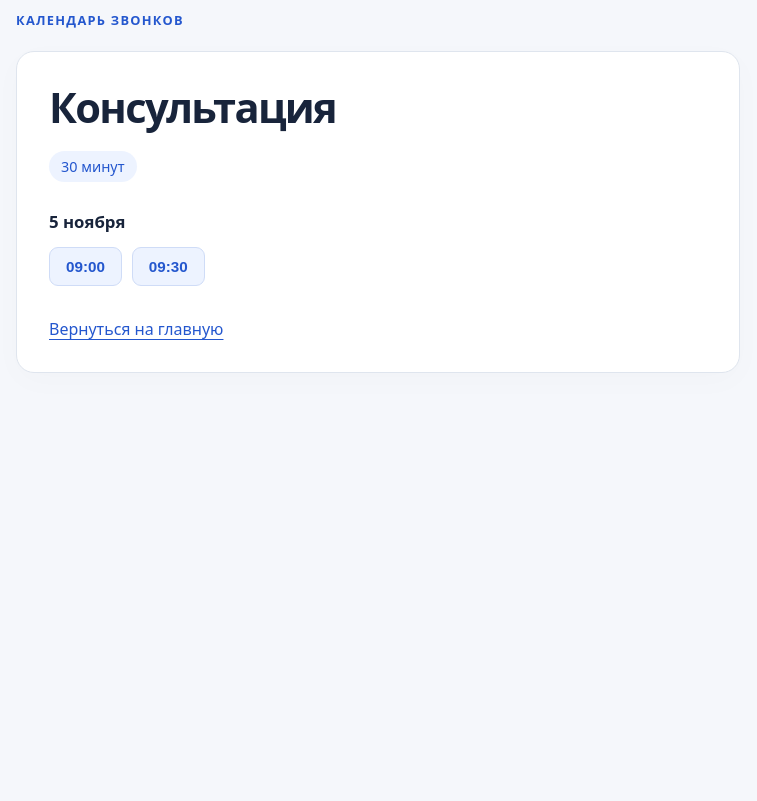
Путь гостя › создаёт запись и показывает подтверждение
Step 1. Click the button "09:00" → (85, 267), box [49,248,122,286]
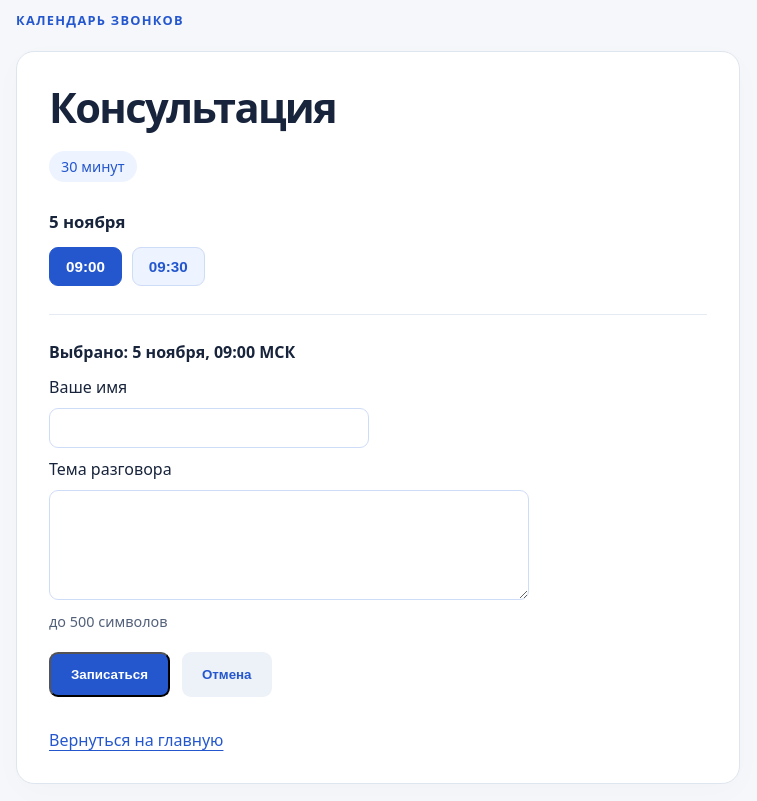
Step 2. Type "Аня" into the field labelled "Ваше имя" → (209, 428), box [49,408,369,448]
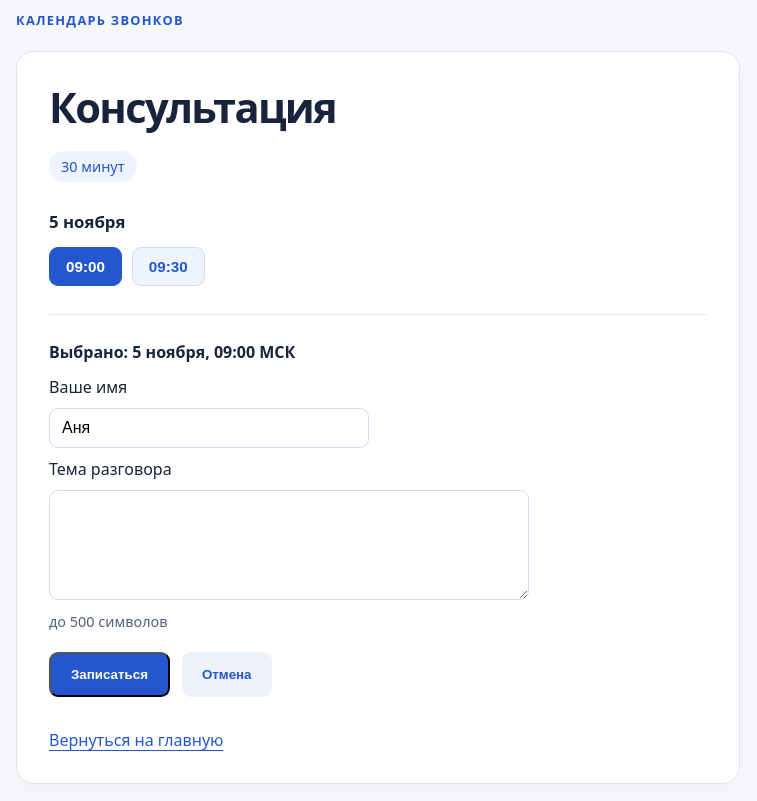
Step 3. Click the button "Записаться" → (109, 674), box [49,652,170,697]
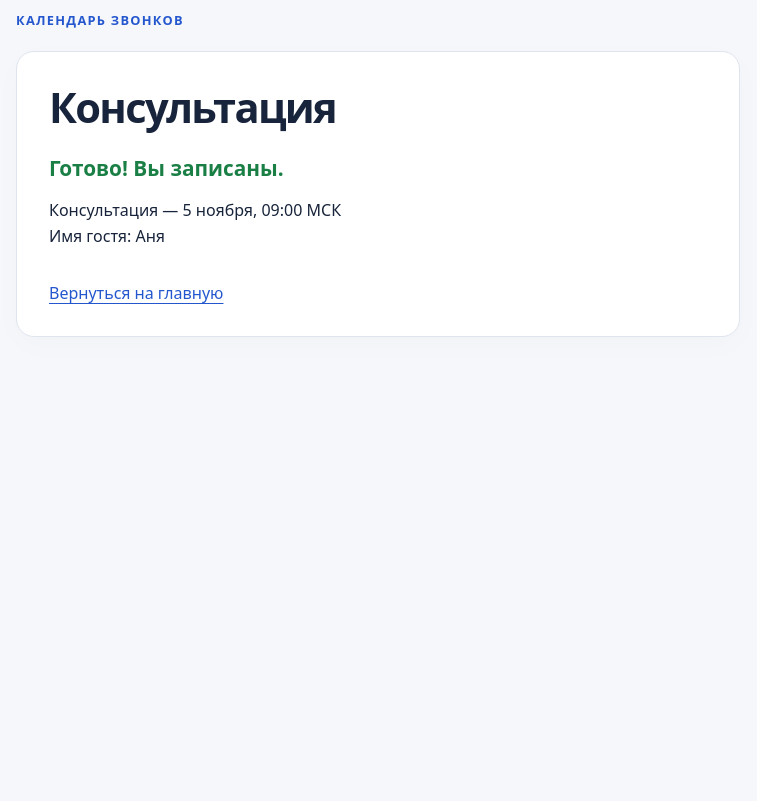
Result: the text "Готово! Вы записаны." is shown at [49,154,284,182]
Result: the text "Имя гостя: Аня" is shown at [49,225,165,247]
